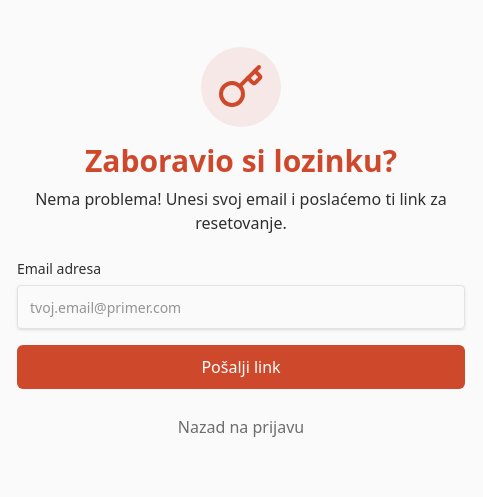
Test: PasswordReset › clears error on new submission
The width and height of the screenshot is (483, 497).
Note: First submission - should fail
Type "test@example.com" into the field. click: coordinates (241, 307)
box: x1=17 y1=285 x2=465 y2=329
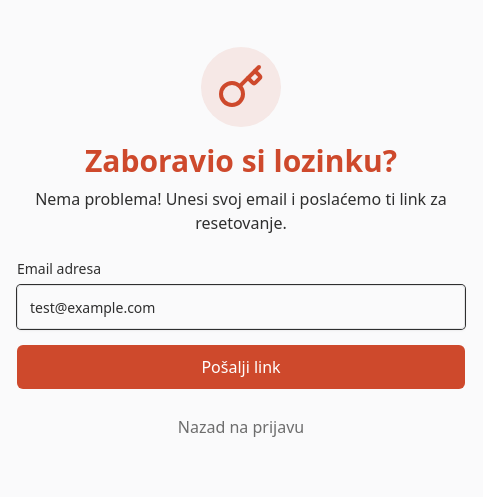
Click the button "Pošalji link". click: coordinates (241, 367)
box: x1=17 y1=345 x2=465 y2=389
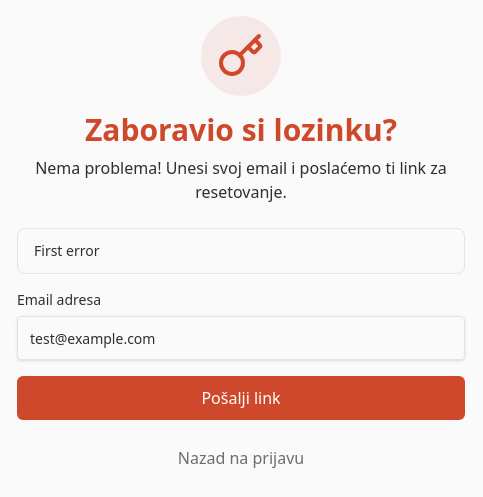
Check: the text "First error" is shown, box x1=17 y1=228 x2=465 y2=274
Note: Second submission - should succeed and clear error
Click the button "Pošalji link". click: coordinates (241, 398)
box: x1=17 y1=376 x2=465 y2=420
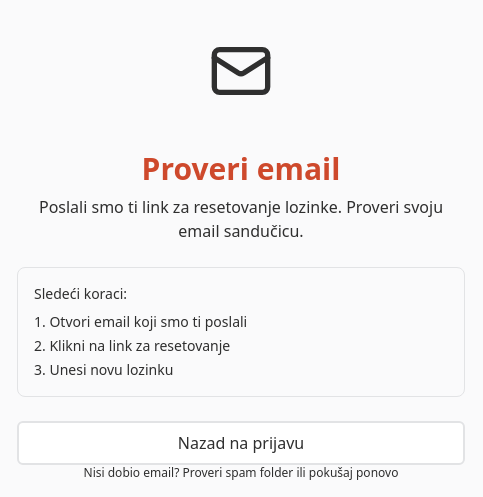
Check: the text "First error" is gone
